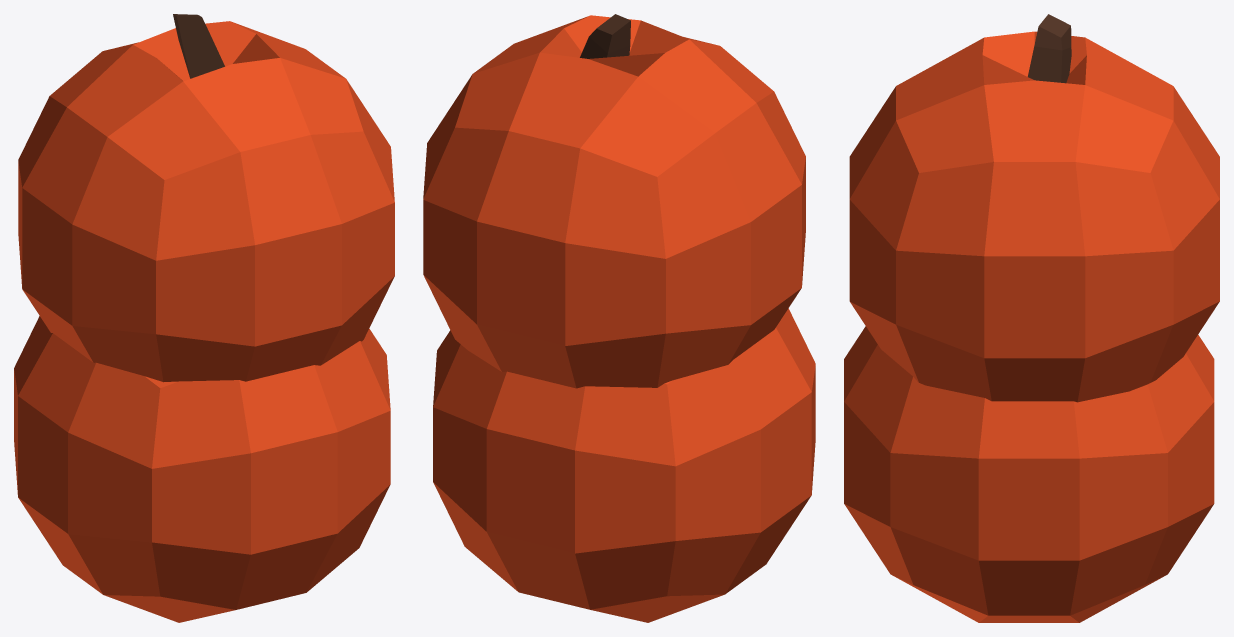
Rendered from Orange.fbx.
3 renders of one model, left to right at view 1: azimuth 30°, elevation 25°; view 2: azimuth 150°, elevation 25°; view 3: azimuth 270°, elevation 25°, orthographic.
Visible parts, largest first — view 1: Orange; view 2: Orange; view 3: Orange.
Boxes of the visible parts, bbox=[...] form: Orange: bbox=[14, 14, 394, 622]; Orange: bbox=[423, 14, 815, 622]; Orange: bbox=[844, 14, 1219, 622].
Size of the model in its own units: 175 by 295 by 174.
